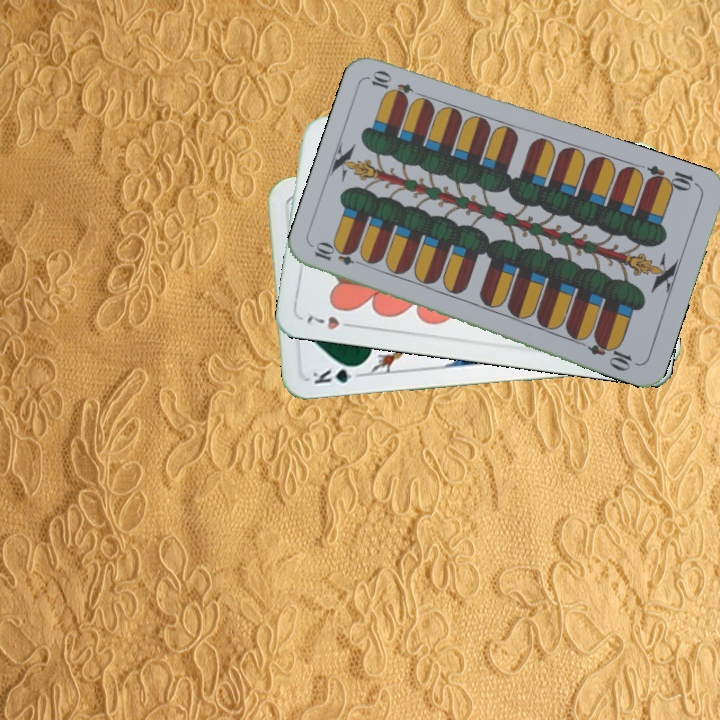E10: (642, 161, 701, 194), (310, 240, 369, 269)
GK: (308, 361, 366, 387)
H7: (301, 309, 359, 332)
